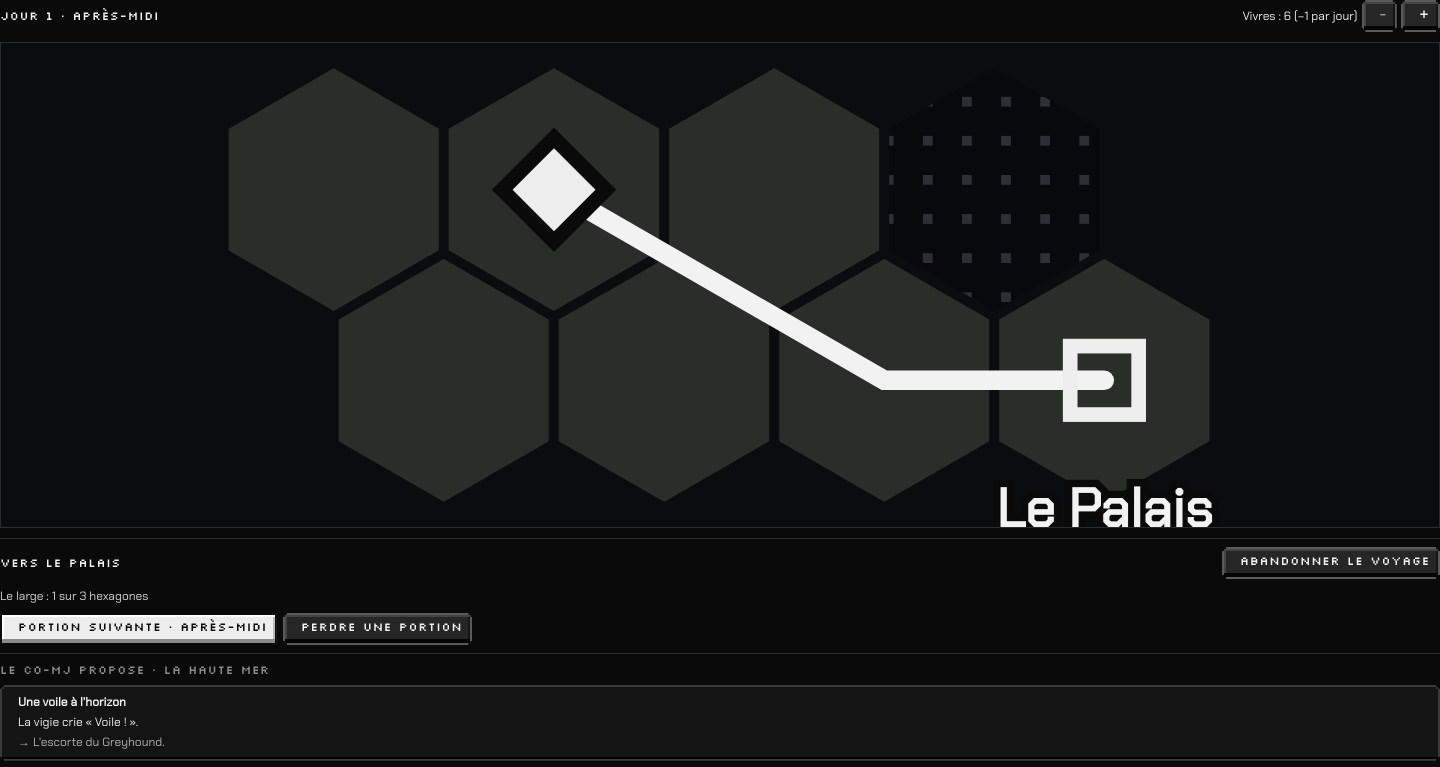
it: the journey on the GM screen › keeps one drawn event, worded by the GM; its GM notes stay on the GM screen
expect the text "Le co-MJ propose · la haute mer" is shown: met, box [0,662,270,677]
expect the text "→ L’escorte du Greyhound." is shown: met, box [18,733,165,751]
Click the button "Une voile à l’horizon". click: (72, 702)
box: [0,685,1439,761]
(page scrolled)
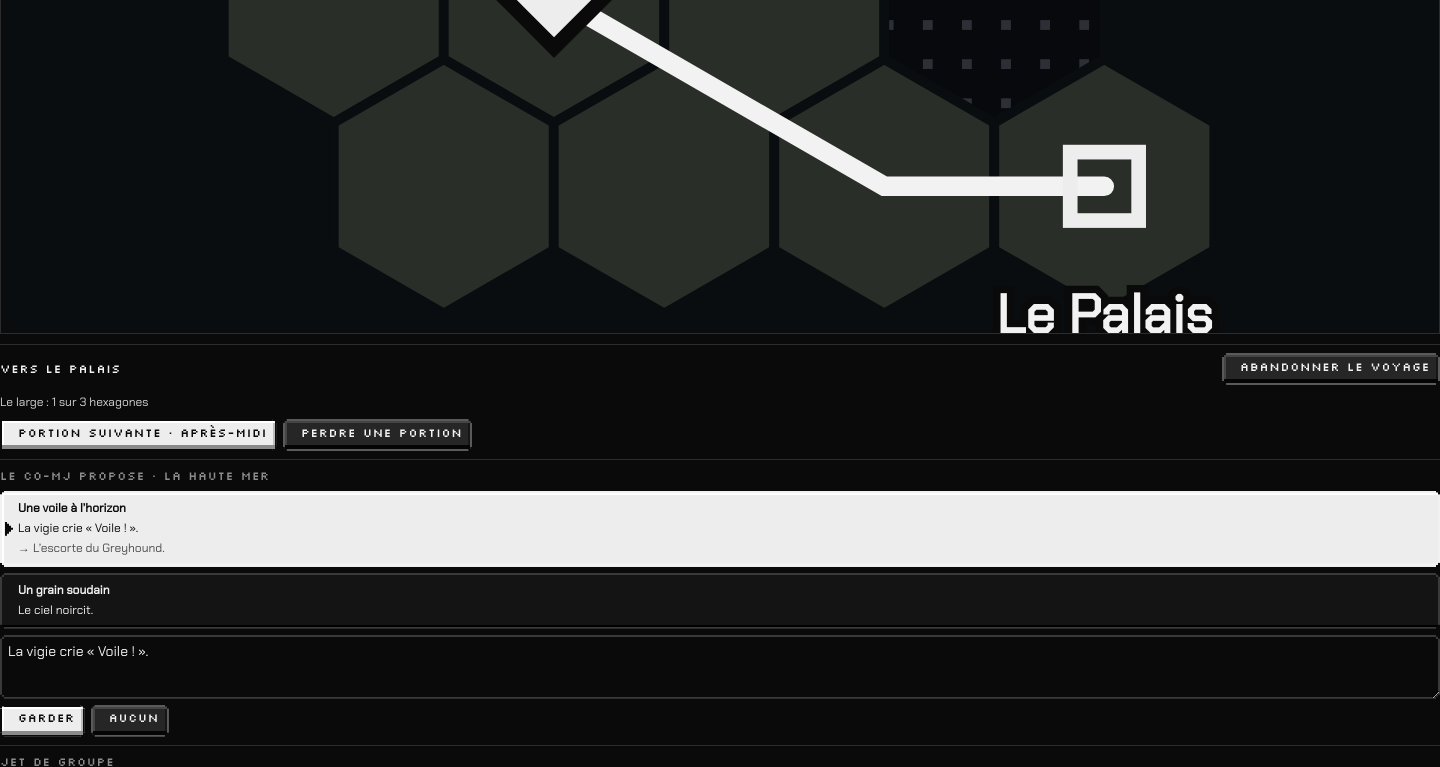
Replace the text in the text box named "Le texte lu à la table" with "Au loin, une voile.". click: (720, 667)
box: [0,635,1439,699]
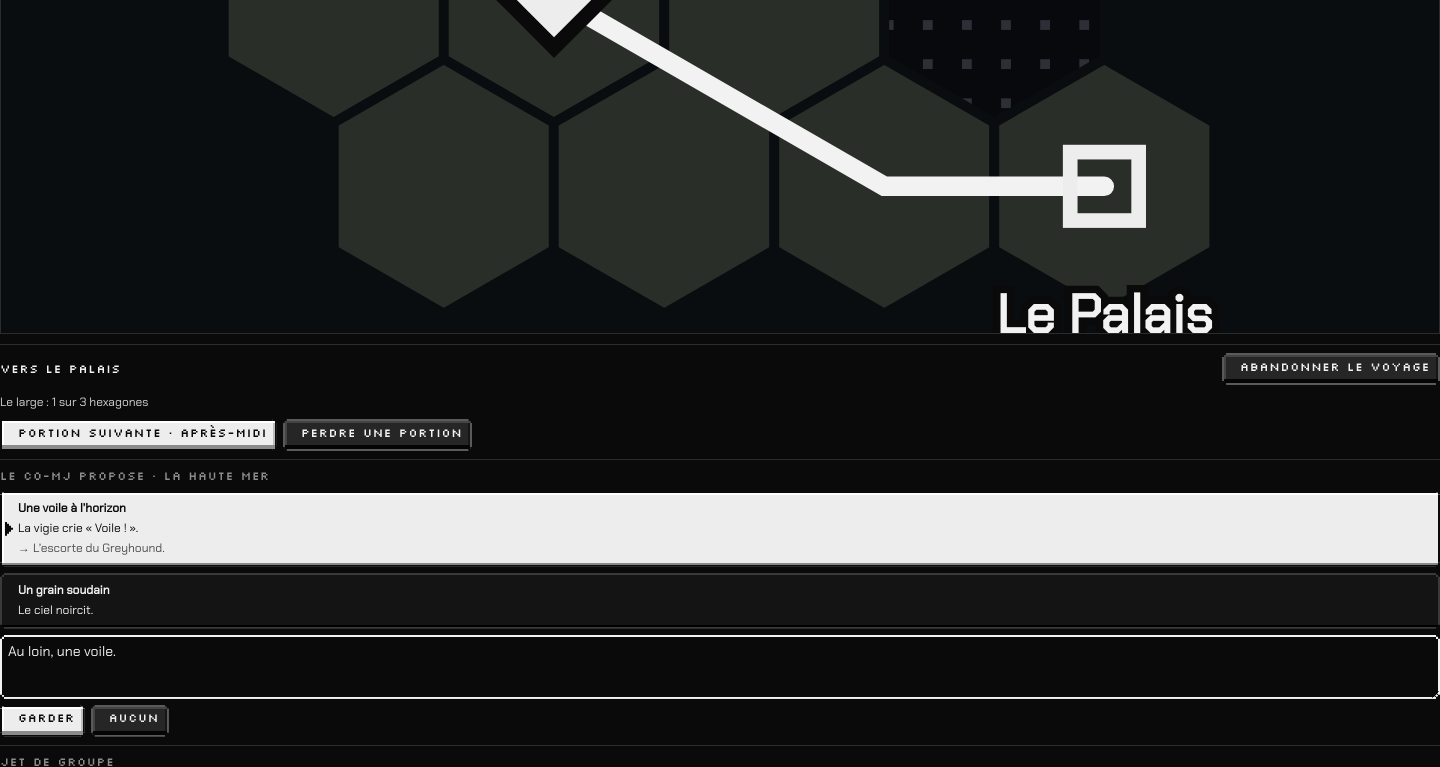
Click the button "Garder". click: (42, 721)
box: [0,705,85,737]
(page scrolled)
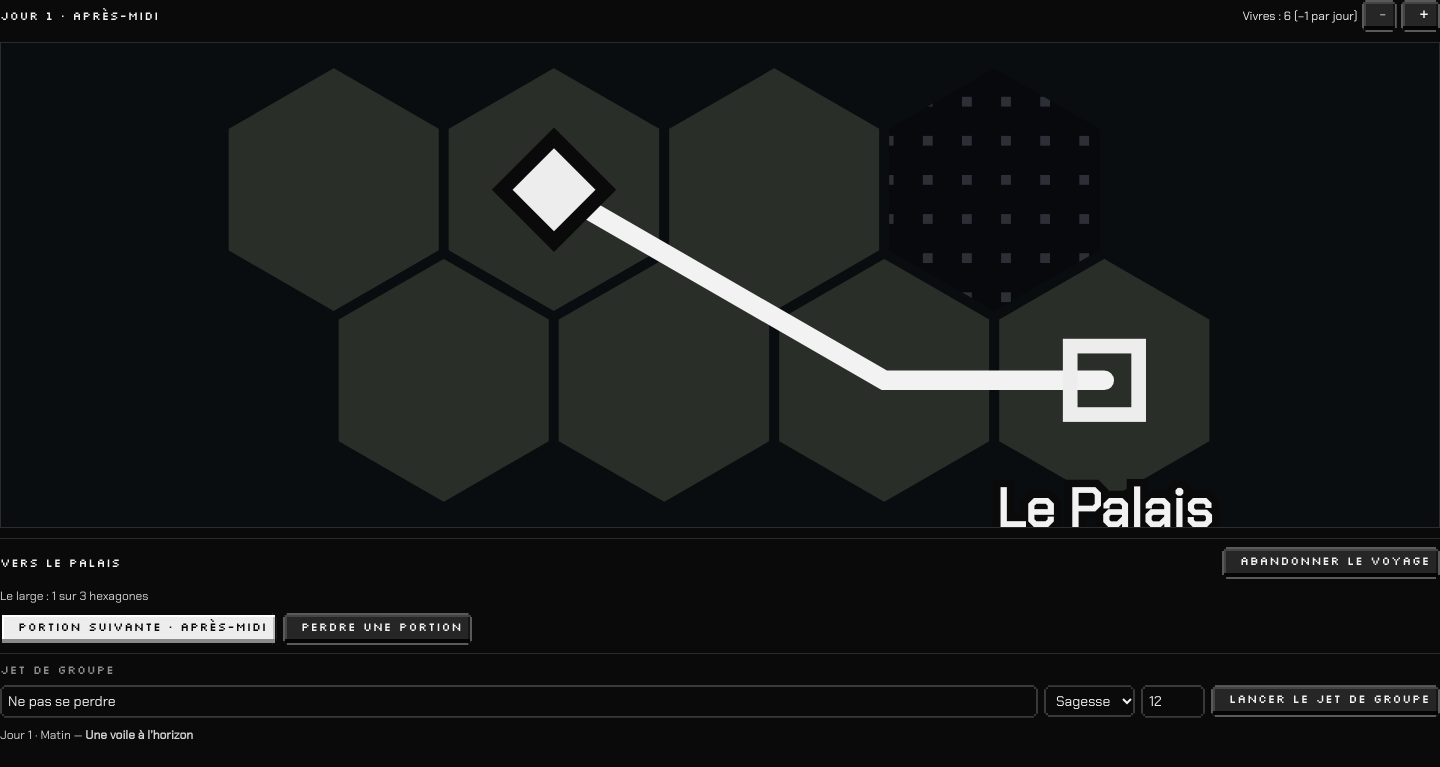
expect the text "Une voile à l’horizon" is shown: met, box [85,727,193,743]
expect the text "Le co-MJ propose · la haute mer" is gone: met
